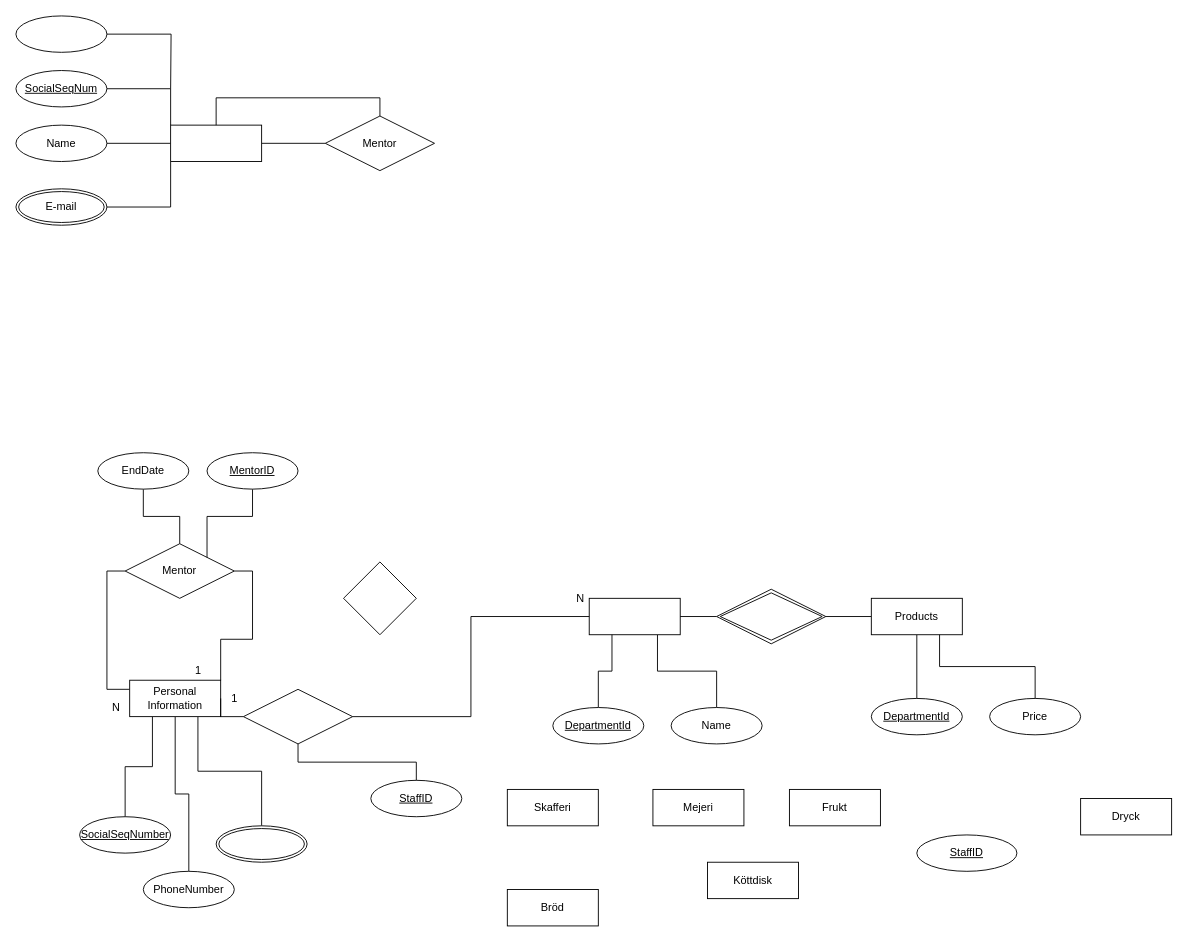
Some shapes in this 1188 by 942 pixel diagram are drawn without their labels. Here are the shapes that lost their labels. From the top down, the centre of each, then its label:
At point 61,33: "Telephone-number".
At point 216,143: "Staff".
At point 379,598: "Test".
At point 634,616: "Departments".
At point 771,616: "Contains".
At point 298,716: "Works".
At point 261,843: "Email".
